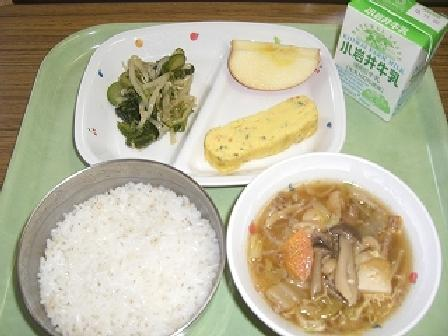Apple: (224, 29, 320, 99)
Bread: (204, 88, 323, 174)
Milk: (332, 2, 447, 106)
Rice: (19, 159, 209, 325)
Salad: (101, 47, 204, 138)
vegetable soup: (239, 161, 424, 323)
